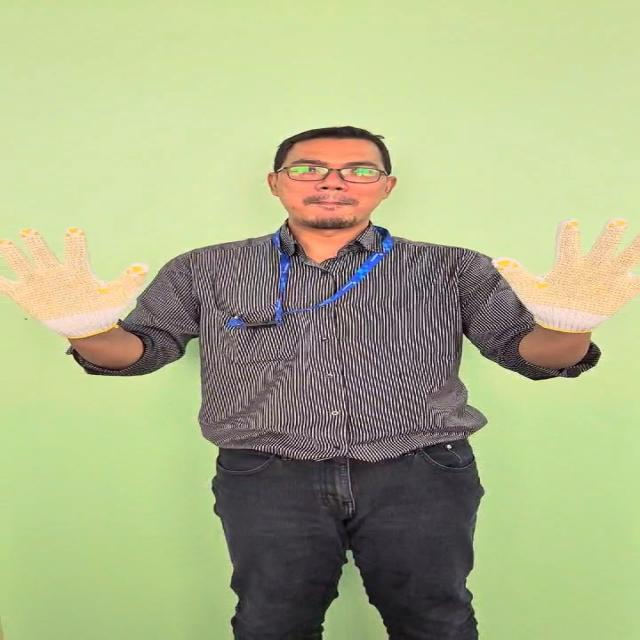gloves: (0, 226, 153, 340), (495, 217, 640, 334)
goggles: (274, 166, 389, 183)
